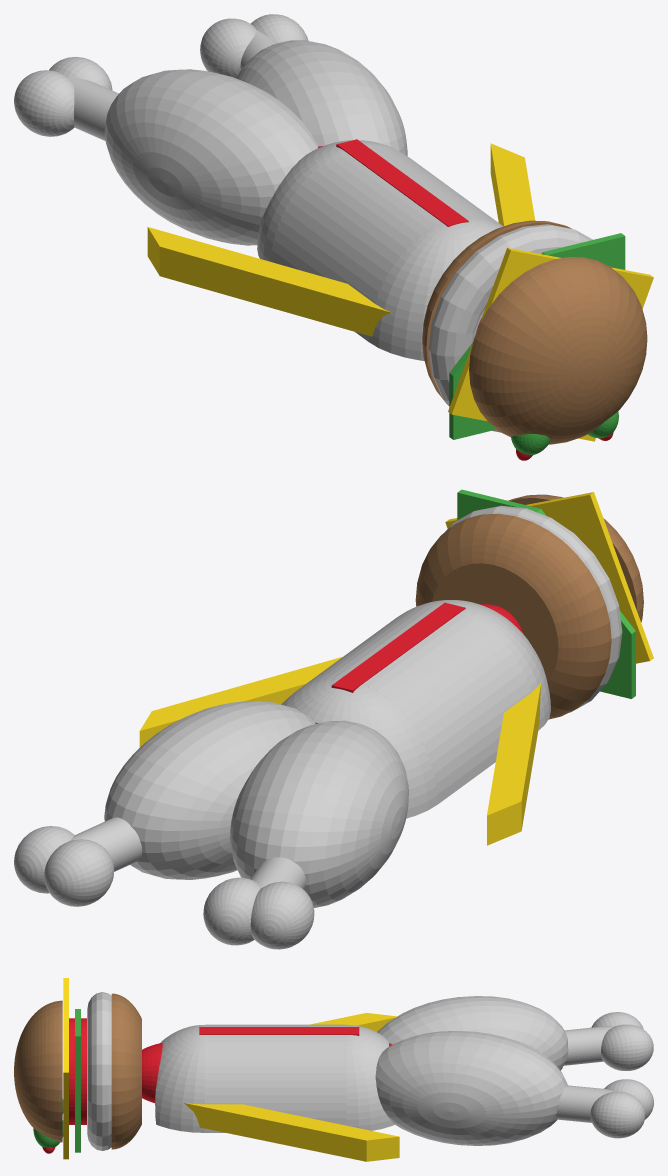
The model's file is tinker.obj.
3 views of the same model, one above another, from view 1: azimuth 30°, elevation 25°; view 2: azimuth 150°, elevation 25°; view 3: azimuth 270°, elevation 25° (orthographic). The views are drawn at different scales.
Parts seen in each view (by area): view 1: group_0_9771553, group_0_11107152, group_0_14860437, group_0_16768282, group_0_14541540, group_0_6306067, group_0_4634441, group_0_15277357; view 2: group_0_9771553, group_0_14860437, group_0_11107152, group_0_14541540, group_0_16768282, group_0_6306067, group_0_15277357, group_0_4634441; view 3: group_0_9771553, group_0_14860437, group_0_11107152, group_0_16768282, group_0_14541540, group_0_6306067, group_0_15277357, group_0_4634441.
Boxes of the visible parts, <box> form: group_0_9771553: <box>104,40,407,245</box>; group_0_11107152: <box>422,220,647,444</box>; group_0_14860437: <box>257,140,503,360</box>; group_0_16768282: <box>147,143,653,441</box>; group_0_14541540: <box>14,14,308,140</box>; group_0_6306067: <box>428,224,592,432</box>; group_0_4634441: <box>449,233,625,455</box>; group_0_15277357: <box>318,139,613,460</box>; group_0_9771553: <box>104,701,408,907</box>; group_0_14860437: <box>281,600,550,818</box>; group_0_11107152: <box>415,494,643,719</box>; group_0_14541540: <box>14,817,314,949</box>; group_0_16768282: <box>139,492,653,845</box>; group_0_6306067: <box>445,505,622,712</box>; group_0_15277357: <box>315,602,522,723</box>; group_0_4634441: <box>457,489,635,698</box>; group_0_9771553: <box>375,996,568,1145</box>; group_0_14860437: <box>155,1024,394,1132</box>; group_0_11107152: <box>14,993,141,1149</box>; group_0_16768282: <box>63,978,399,1161</box>; group_0_14541540: <box>556,1012,653,1138</box>; group_0_6306067: <box>87,992,111,1150</box>; group_0_15277357: <box>42,1018,392,1153</box>; group_0_4634441: <box>33,1009,80,1152</box>.
Size of the model in its own units: 52.87 by 29.28 by 112.
